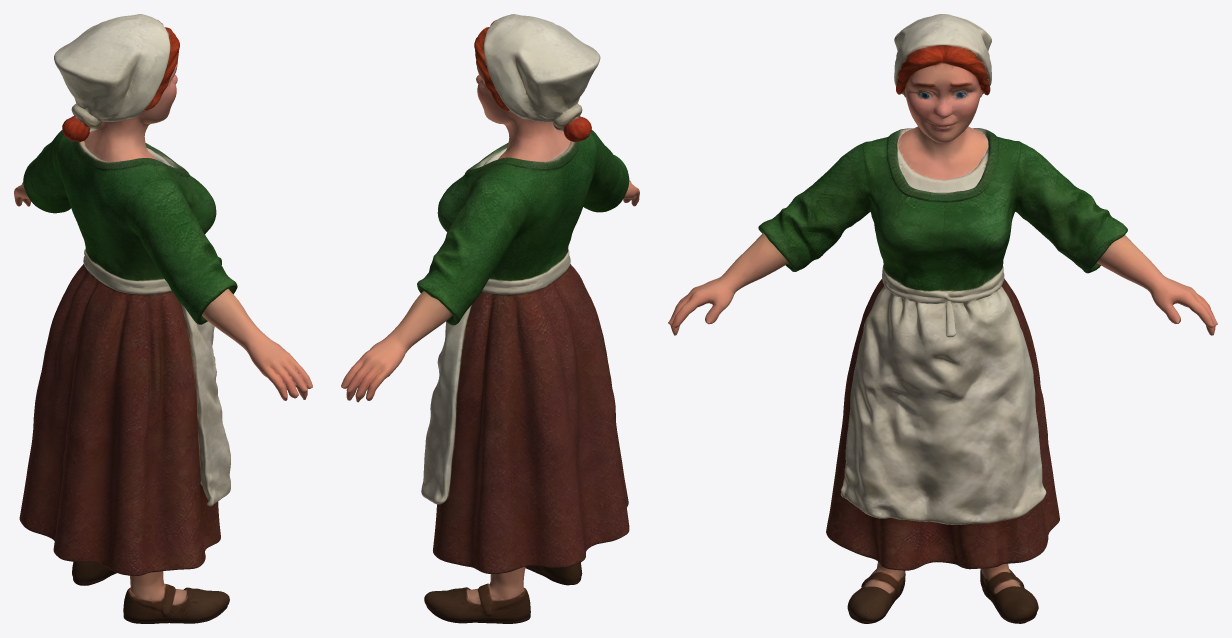
The picture shows the model from 3 angles, left to right: view 1: azimuth 30°, elevation 25°; view 2: azimuth 150°, elevation 25°; view 3: azimuth 270°, elevation 25°; orthographic projection.
Parts seen in each view (by area): view 1: tripo_node_2988c47f-bbf6-43f5-b767-2bf6888d307d; view 2: tripo_node_2988c47f-bbf6-43f5-b767-2bf6888d307d; view 3: tripo_node_2988c47f-bbf6-43f5-b767-2bf6888d307d.
Part boxes in pixels (<box>): tripo_node_2988c47f-bbf6-43f5-b767-2bf6888d307d: <box>14,14,312,623</box>; tripo_node_2988c47f-bbf6-43f5-b767-2bf6888d307d: <box>341,14,639,623</box>; tripo_node_2988c47f-bbf6-43f5-b767-2bf6888d307d: <box>668,14,1217,623</box>.
Size of the model in its own units: 0.2972 by 1 by 0.8619.
1 material, 1 textured.
